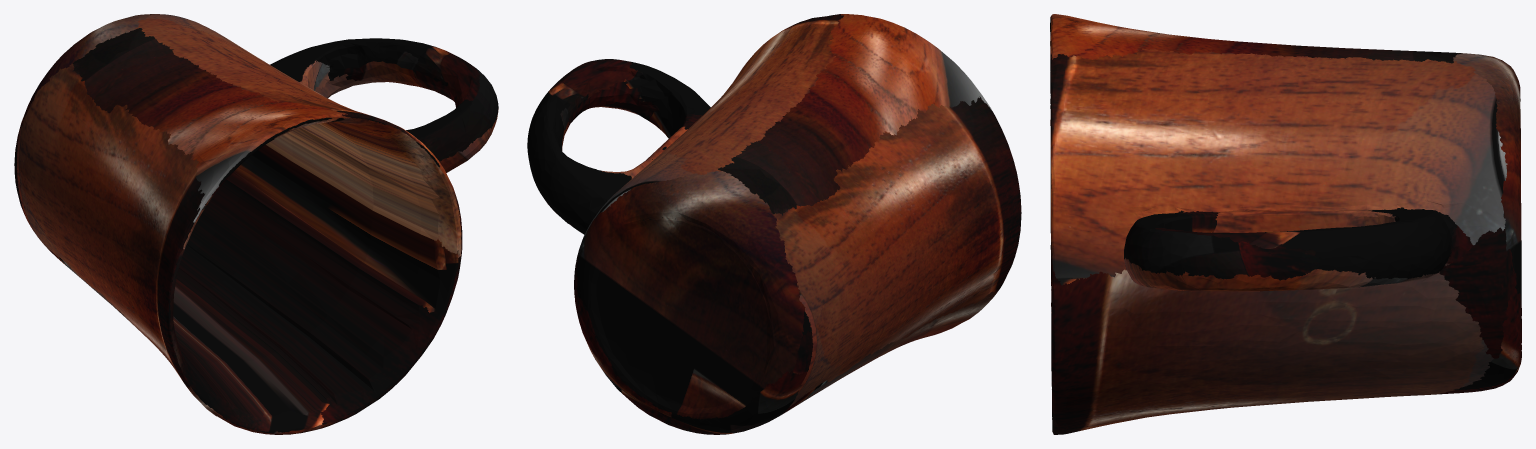
3 renders of one model, left to right at view 1: azimuth 30°, elevation 25°; view 2: azimuth 150°, elevation 25°; view 3: azimuth 270°, elevation 25°, orthographic. The views are drawn at different scales.
Parts seen in each view (by area): view 1: 20200901_2_peizi1; view 2: 20200901_2_peizi1; view 3: 20200901_2_peizi1.
Boxes of the visible parts, x1,y1,x2,y2 form: 20200901_2_peizi1: (14, 14, 498, 434); 20200901_2_peizi1: (527, 14, 1021, 434); 20200901_2_peizi1: (1050, 14, 1521, 434).
Bounding box in the file's own units: 116 × 89.34 × 99.96.
